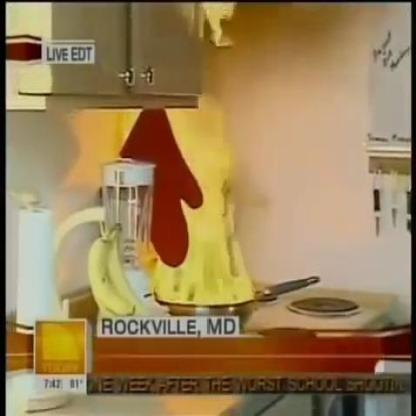fire: (152, 108, 260, 307)
